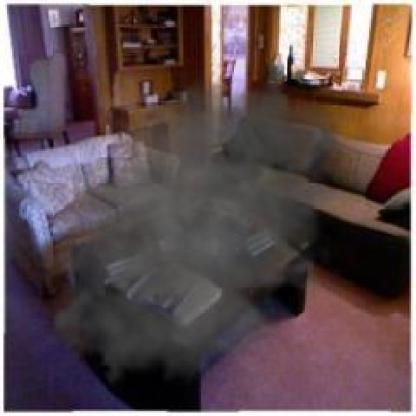Smoke: (26, 50, 364, 409)
